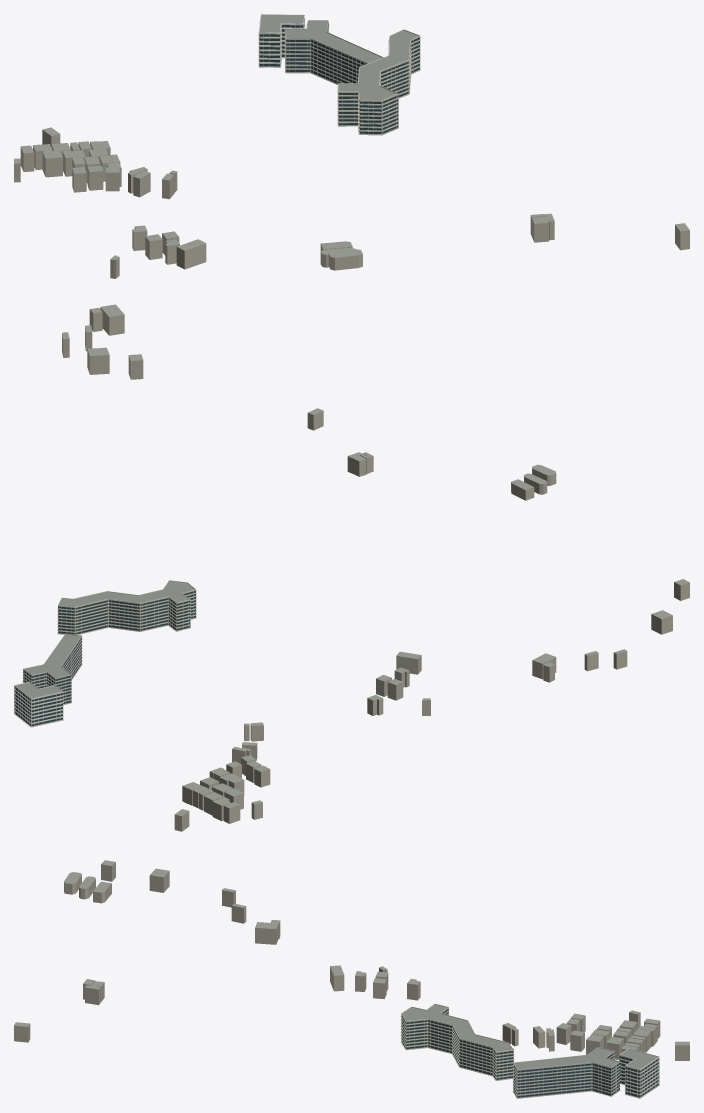
File: zone_1_0-high.glb
3 renders of one model, top to bottom at view 1: azimuth 30°, elevation 25°; view 2: azimuth 150°, elevation 25°; view 3: azimuth 270°, elevation 25°, orthographic. The views are drawn at different scales.
Visible parts, largest first — view 1: web_building_135904508, web_building_135904004, web_building_135904006, web_building_527852768; view 2: web_building_135904508, web_building_135904004, web_building_135904006; view 3: web_building_135904508, web_building_135904004, web_building_135904006, web_building_527852768.
Part boxes in pixels (left/top/right/bottom): web_building_135904508: left=337, top=29, right=420, bottom=135; web_building_135904004: left=285, top=20, right=383, bottom=84; web_building_135904006: left=258, top=14, right=305, bottom=67; web_building_527852768: left=100, top=304, right=124, bottom=335; web_building_135904508: left=57, top=580, right=196, bottom=634; web_building_135904004: left=22, top=633, right=82, bottom=704; web_building_135904006: left=14, top=681, right=63, bottom=727; web_building_135904508: left=400, top=1003, right=514, bottom=1080; web_building_135904004: left=512, top=1047, right=620, bottom=1098; web_building_135904006: left=619, top=1048, right=659, bottom=1098; web_building_527852768: left=255, top=922, right=278, bottom=944.
Bounding box in the file's own units: 370 × 121 × 486.
